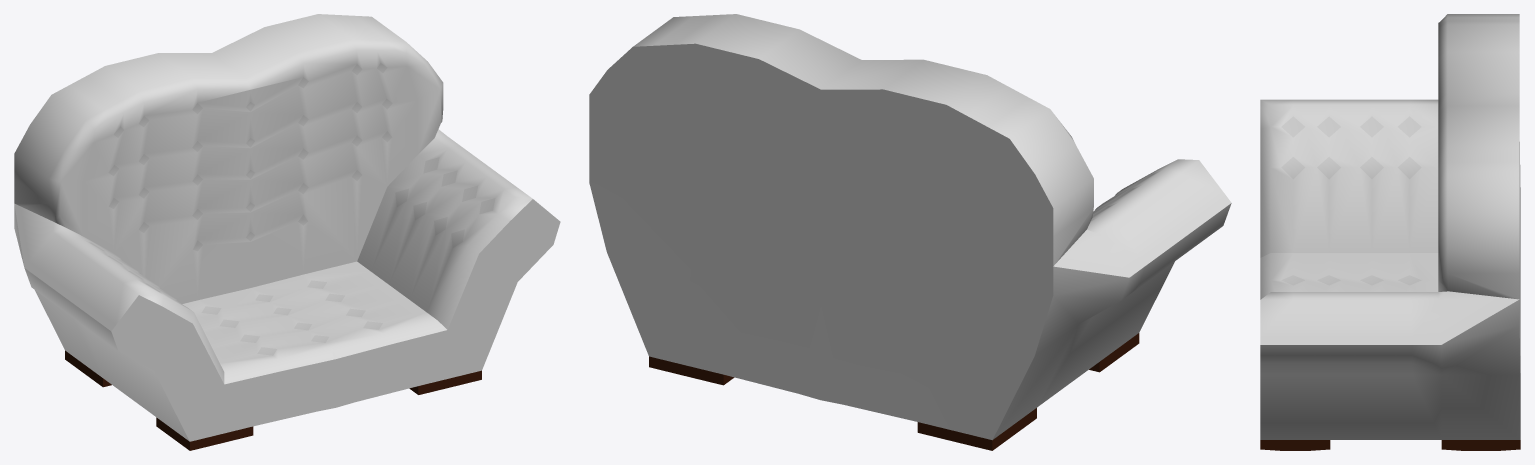
File: LoveSeat_Justin.FBX
The picture shows the model from 3 angles, left to right: view 1: azimuth 30°, elevation 25°; view 2: azimuth 150°, elevation 25°; view 3: azimuth 270°, elevation 25°; orthographic projection. The views are drawn at different scales.
Parts seen in each view (by area): view 1: Box001; view 2: Box001; view 3: Box001.
Boxes of the visible parts, left/top/right/bottom form: Box001: left=14, top=14, right=560, bottom=450; Box001: left=589, top=14, right=1231, bottom=450; Box001: left=1260, top=14, right=1520, bottom=450.
Bounding box in the file's own units: 97.26 × 60.95 × 46.8.
